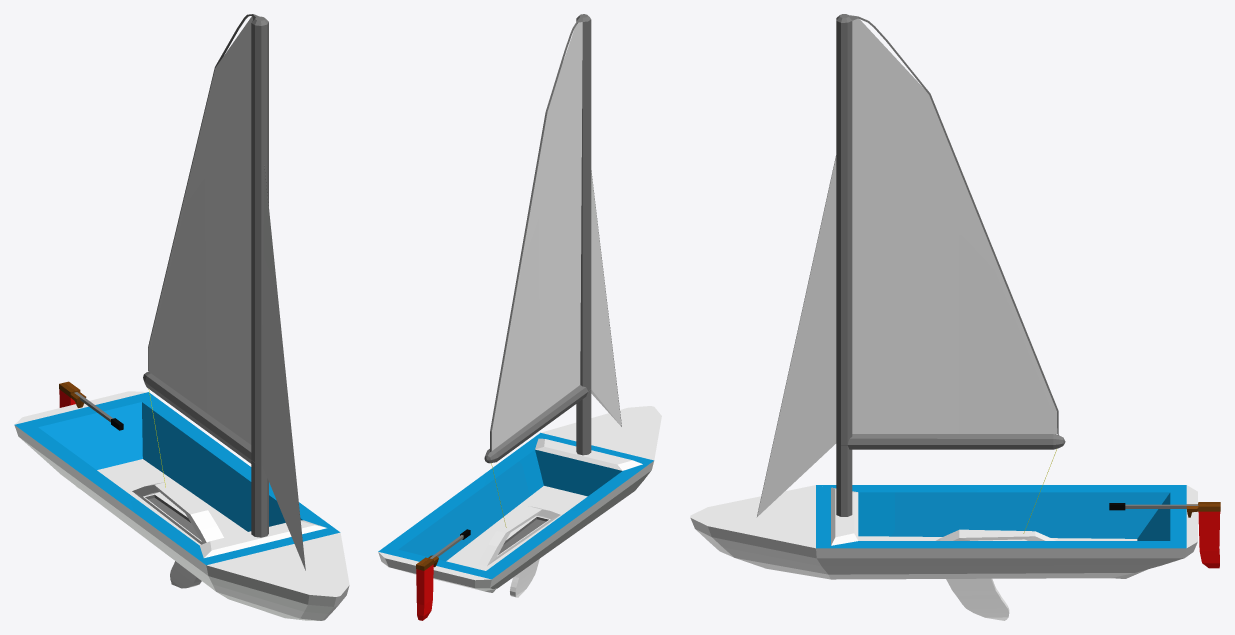
Rendered from small_sailboat.glb.
3 views of the same model, side by side, from view 1: azimuth 30°, elevation 25°; view 2: azimuth 150°, elevation 25°; view 3: azimuth 270°, elevation 25° (orthographic). The views are drawn at different scales.
Visible parts, largest first — view 1: Cube; view 2: Cube; view 3: Cube.
Part boxes in pixels (box(x1,y1,x2,y2)): Cube: box(14, 14, 349, 620); Cube: box(378, 14, 661, 620); Cube: box(690, 14, 1220, 620).
Size of the model in its own units: 3.49 by 15.53 by 12.37.
Materials: 1 (1 with a texture image).
